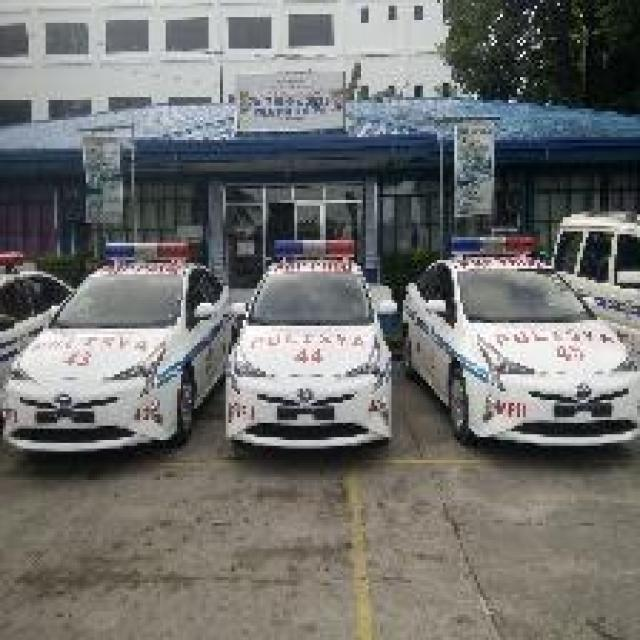Police-car: (0, 240, 231, 457), (400, 248, 637, 448), (223, 246, 397, 451), (0, 245, 74, 431)
